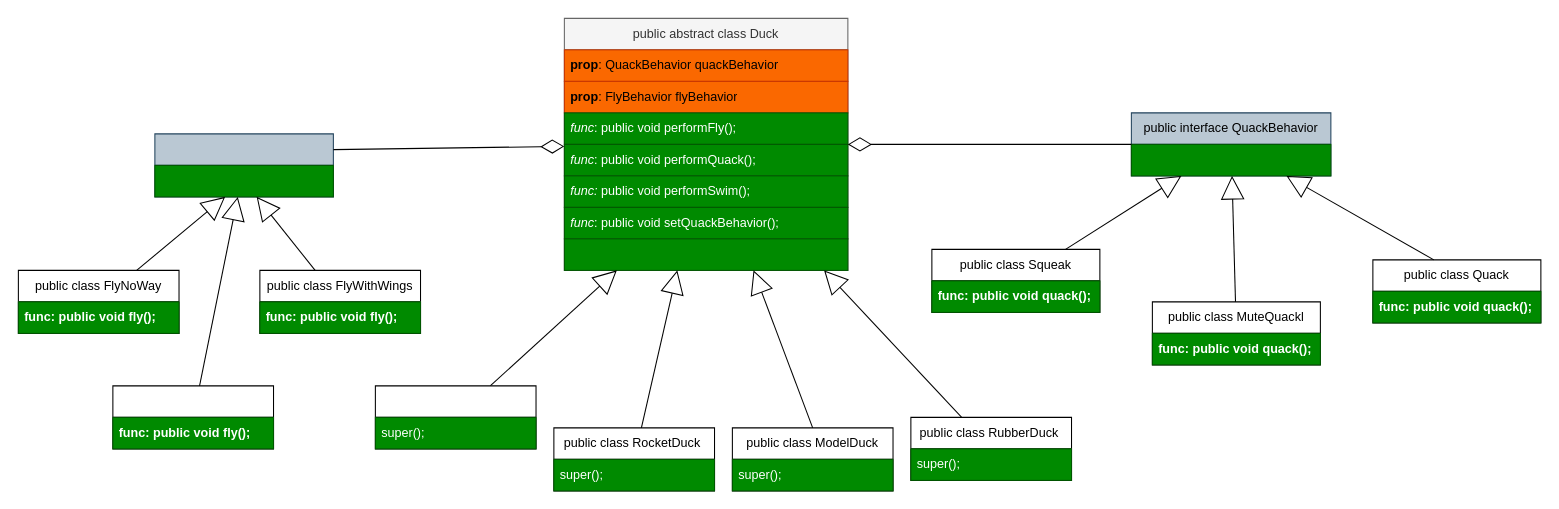
Image size: 1559x509. Some labels were removed from this diagram. Each missing label, with the box of its shape:
func : public void setFlyBehavior();: (563, 238, 848, 270)
public class MallardDuck: (374, 385, 536, 449)
public class RocketDrive: (112, 385, 274, 449)
public interface FlyBehavior: (154, 133, 333, 197)
void fly();: (154, 164, 333, 197)
void quack();: (1130, 143, 1331, 176)
